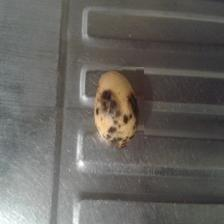Mango Semirotten: (88, 67, 144, 148)
